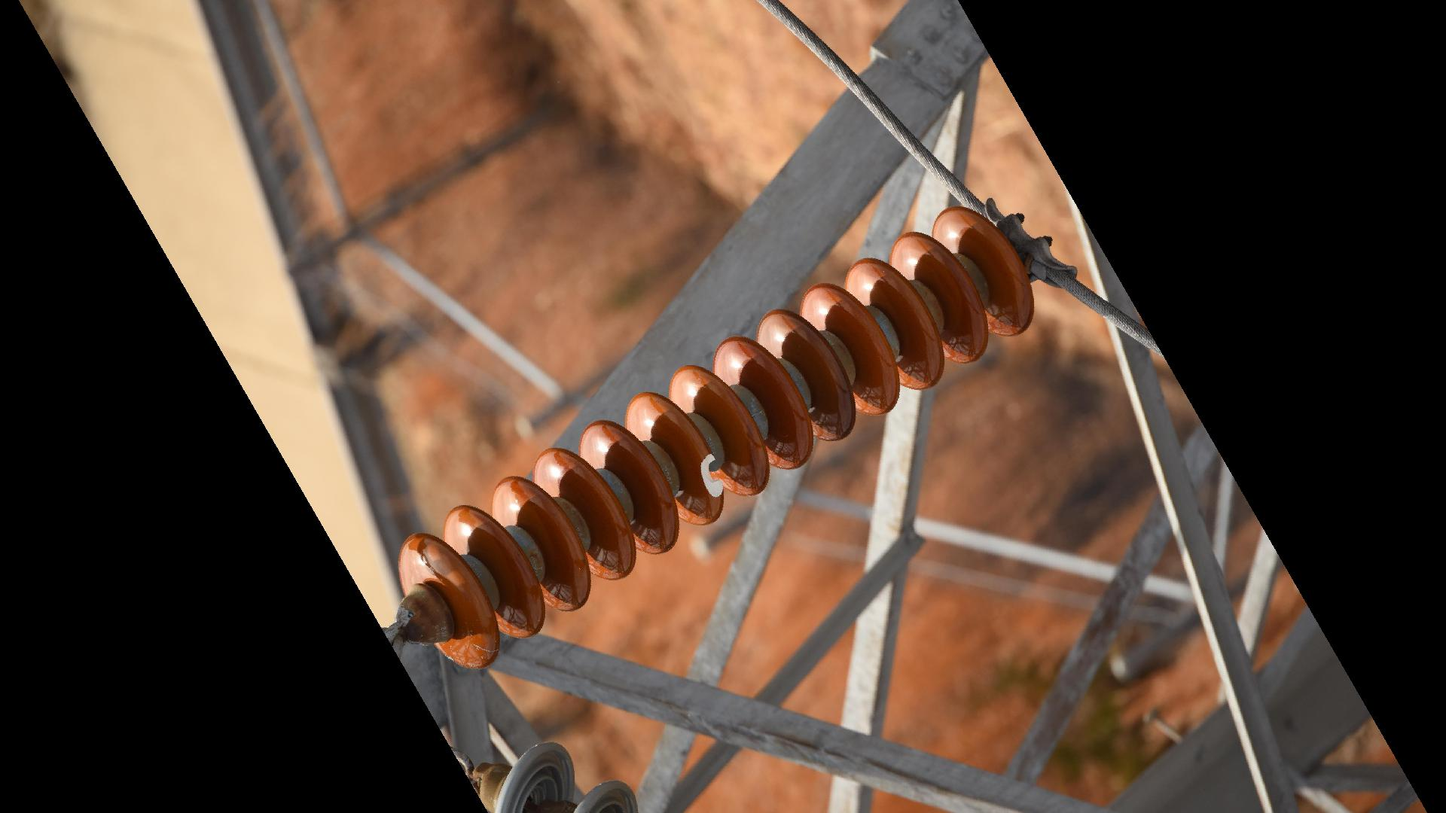insulator: (392, 201, 1042, 677), (487, 733, 645, 813)
insulator_breakage: (692, 446, 732, 510)
